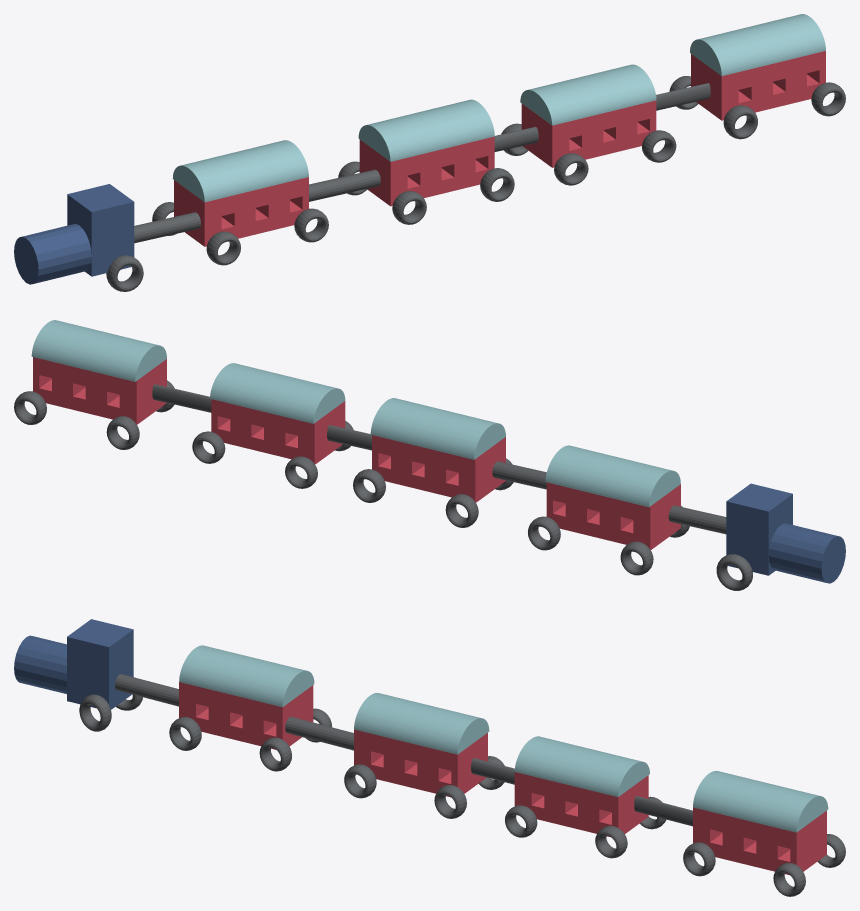
The model's file is train.glb.
The picture shows the model from 3 angles, top to bottom: view 1: azimuth 30°, elevation 25°; view 2: azimuth 150°, elevation 25°; view 3: azimuth 330°, elevation 25°; orthographic projection.
Parts seen in each view (by area): view 1: Mesh_Mesh_head_geo.001_lambert2SG.001; view 2: Mesh_Mesh_head_geo.001_lambert2SG.001; view 3: Mesh_Mesh_head_geo.001_lambert2SG.001.
Boxes of the visible parts, bbox=[...] form: Mesh_Mesh_head_geo.001_lambert2SG.001: bbox=[14, 14, 845, 291]; Mesh_Mesh_head_geo.001_lambert2SG.001: bbox=[14, 320, 845, 590]; Mesh_Mesh_head_geo.001_lambert2SG.001: bbox=[14, 619, 845, 896].
Size of the model in its own units: 376 by 40 by 49.
